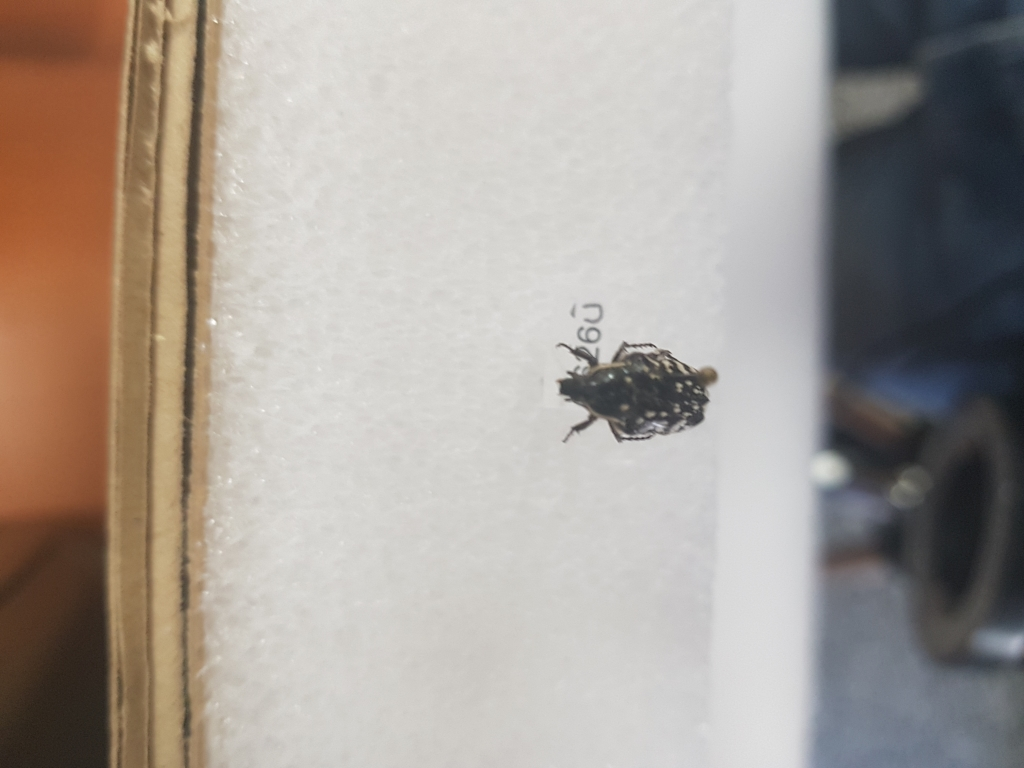Oxythyrea_funesta: (548, 324, 714, 450)
